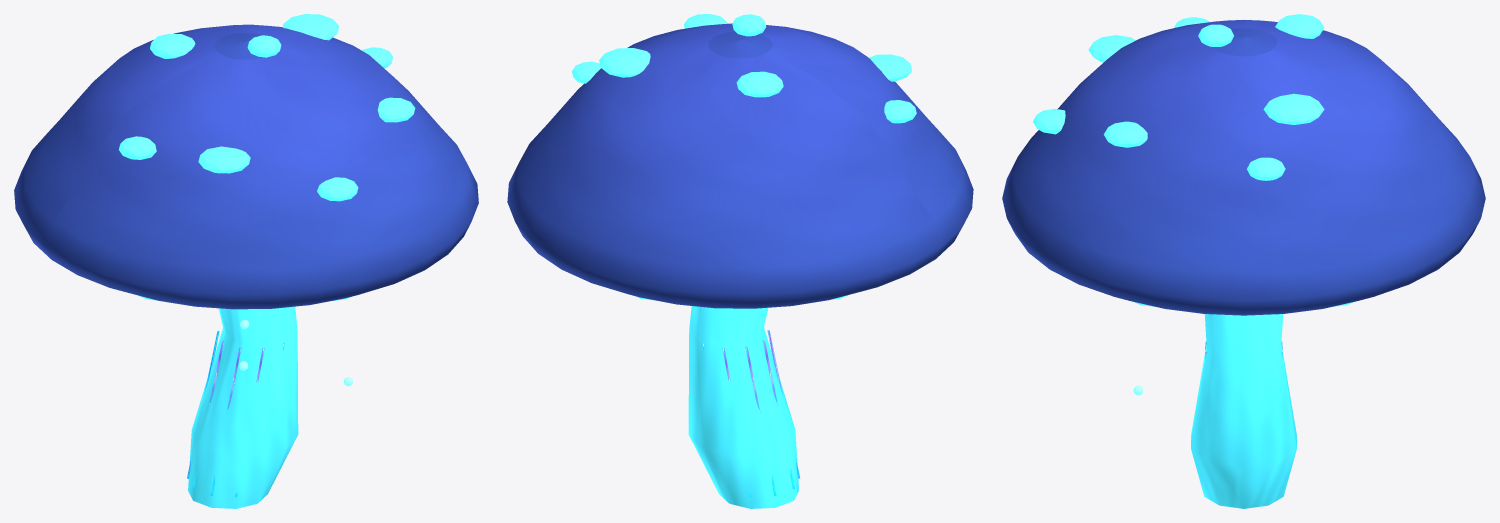
Rendered from forest_mushroom_blue.glb.
The picture shows the model from 3 angles, left to right: view 1: azimuth 30°, elevation 25°; view 2: azimuth 150°, elevation 25°; view 3: azimuth 270°, elevation 25°; orthographic projection. The views are drawn at different scales.
Visible parts, largest first — view 1: Broad faceted mushroom cap, Curving luminous mushroom stem, Bioluminescent cap spot, Bioluminescent cap spot.004, Bioluminescent cap spot.003, Bioluminescent cap spot.002, Bioluminescent cap spot.001, Bioluminescent cap spot.006, Bioluminescent cap spot.005; view 2: Broad faceted mushroom cap, Curving luminous mushroom stem, Bioluminescent cap spot.004, Bioluminescent cap spot.003, Bioluminescent cap spot, Bioluminescent cap spot.006, Bioluminescent cap spot.005; view 3: Broad faceted mushroom cap, Curving luminous mushroom stem, Bioluminescent cap spot.004, Bioluminescent cap spot.001, Bioluminescent cap spot.003, Bioluminescent cap spot, Bioluminescent cap spot.007, Bioluminescent cap spot.002, Bioluminescent cap spot.005.
Boxes of the visible parts, x1,y1,x2,y2 form: Broad faceted mushroom cap: (14,24,478,309); Curving luminous mushroom stem: (188,306,298,508); Bioluminescent cap spot: (198,146,250,173); Bioluminescent cap spot.004: (282,14,339,40); Bioluminescent cap spot.003: (150,33,195,58); Bioluminescent cap spot.002: (317,177,358,201); Bioluminescent cap spot.001: (377,97,415,122); Bioluminescent cap spot.006: (119,136,156,159); Bioluminescent cap spot.005: (247,35,281,57); Broad faceted mushroom cap: (507,23,973,308); Curving luminous mushroom stem: (688,306,798,508); Bioluminescent cap spot.004: (599,48,650,77); Bioluminescent cap spot.003: (736,71,783,97); Bioluminescent cap spot: (869,54,911,81); Bioluminescent cap spot.006: (884,100,916,123); Bioluminescent cap spot.005: (732,14,766,36); Broad faceted mushroom cap: (1002,20,1485,315); Curving luminous mushroom stem: (1191,314,1296,508); Bioluminescent cap spot.004: (1263,93,1324,124); Bioluminescent cap spot.001: (1103,121,1147,147); Bioluminescent cap spot.003: (1275,14,1324,38); Bioluminescent cap spot: (1088,35,1135,62); Bioluminescent cap spot.007: (1247,157,1285,180); Bioluminescent cap spot.002: (1033,109,1065,134); Bioluminescent cap spot.005: (1198,24,1233,46).
Bounding box in the file's own units: 1.74 × 1.89 × 1.74.
5 materials, 3 textured.
